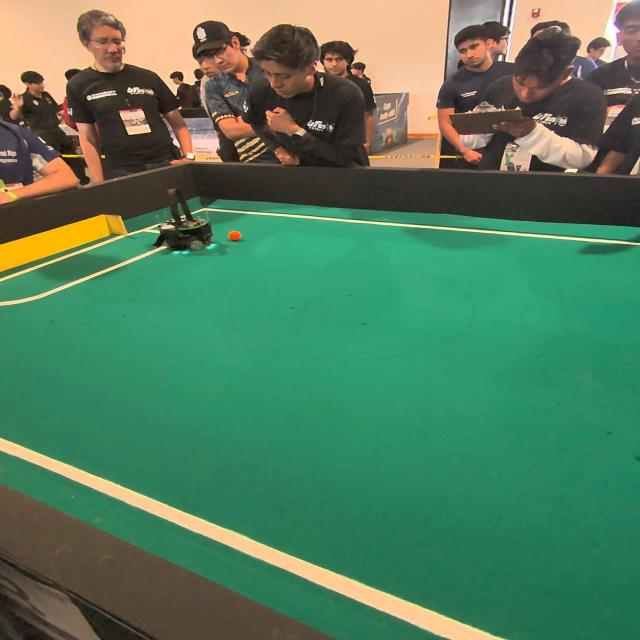Robot: (153, 184, 216, 263)
pelota: (230, 232, 244, 242)
